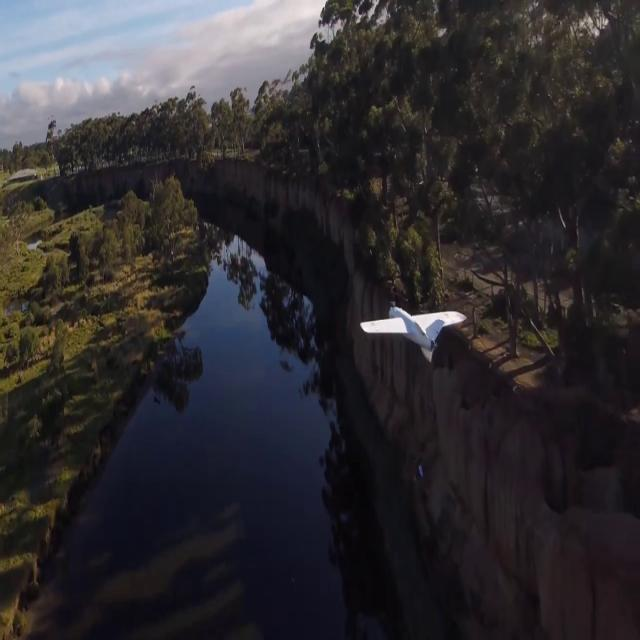iha: (392, 330, 434, 336)
